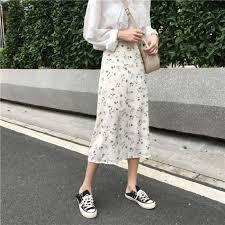skirt: (86, 38, 153, 169)
